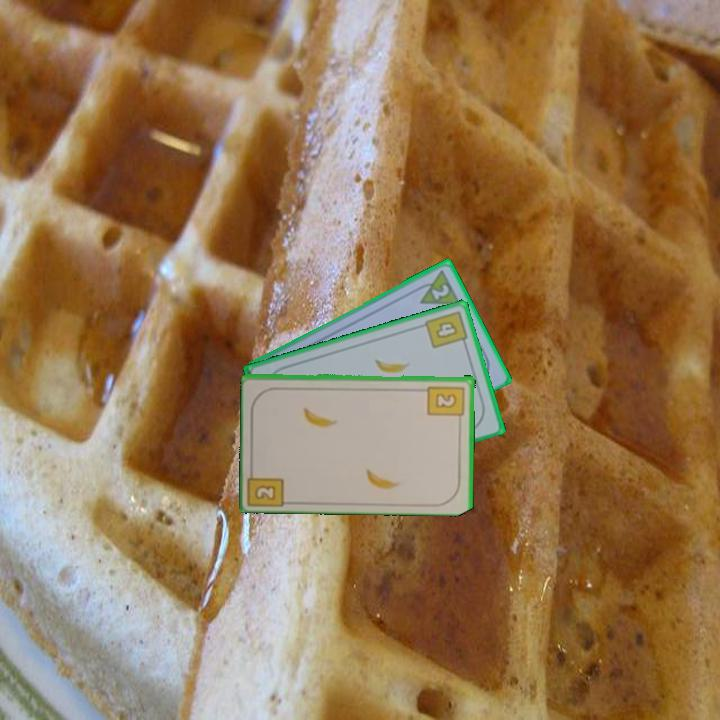2b: (247, 463, 289, 508), (425, 382, 467, 424)
2p: (411, 266, 463, 308)
4b: (421, 307, 470, 351)
